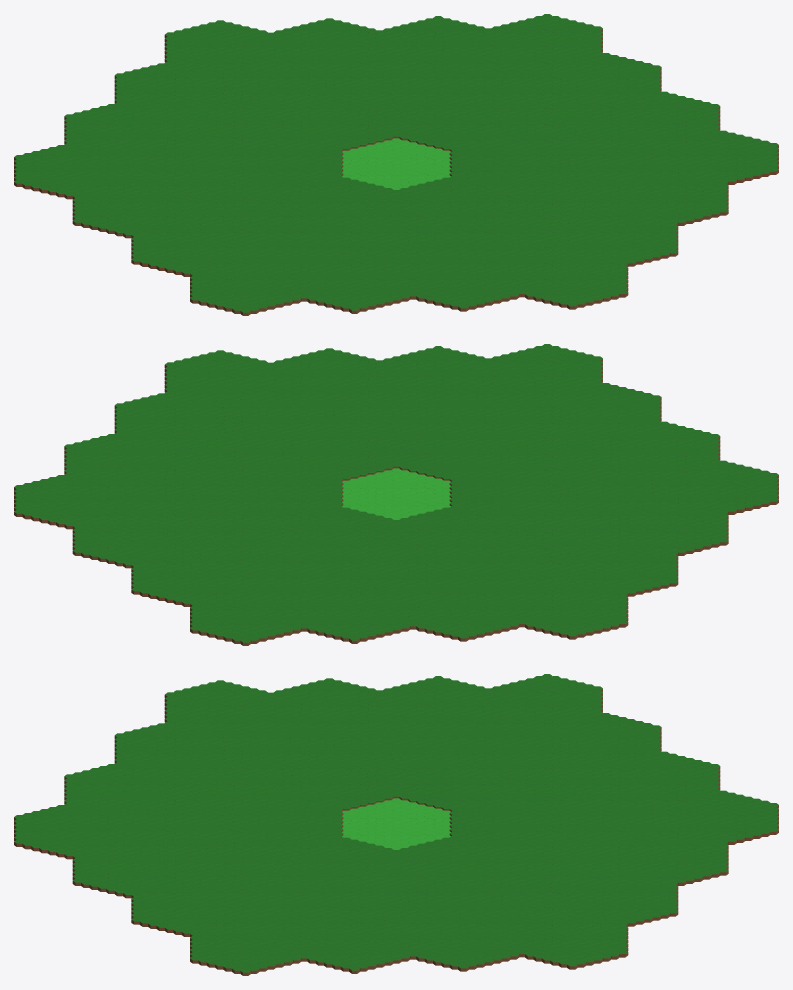
File: PdV_Model_Floor.fbx
The picture shows the model from 3 angles, top to bottom: view 1: azimuth 30°, elevation 25°; view 2: azimuth 150°, elevation 25°; view 3: azimuth 270°, elevation 25°; orthographic projection.
Parts seen in each view (by area): view 1: Cylinder.005, Cylinder.001; view 2: Cylinder.005, Cylinder.001; view 3: Cylinder.005, Cylinder.001.
Boxes of the visible parts, x1=… form: Cylinder.005: x1=14, y1=14, x2=778, y2=315; Cylinder.001: x1=342, y1=138, x2=450, y2=189; Cylinder.005: x1=14, y1=344, x2=778, y2=645; Cylinder.001: x1=342, y1=468, x2=450, y2=519; Cylinder.005: x1=14, y1=674, x2=778, y2=975; Cylinder.001: x1=342, y1=798, x2=450, y2=849.
Bounding box in the file's own units: 74037 × 80207 × 590.
